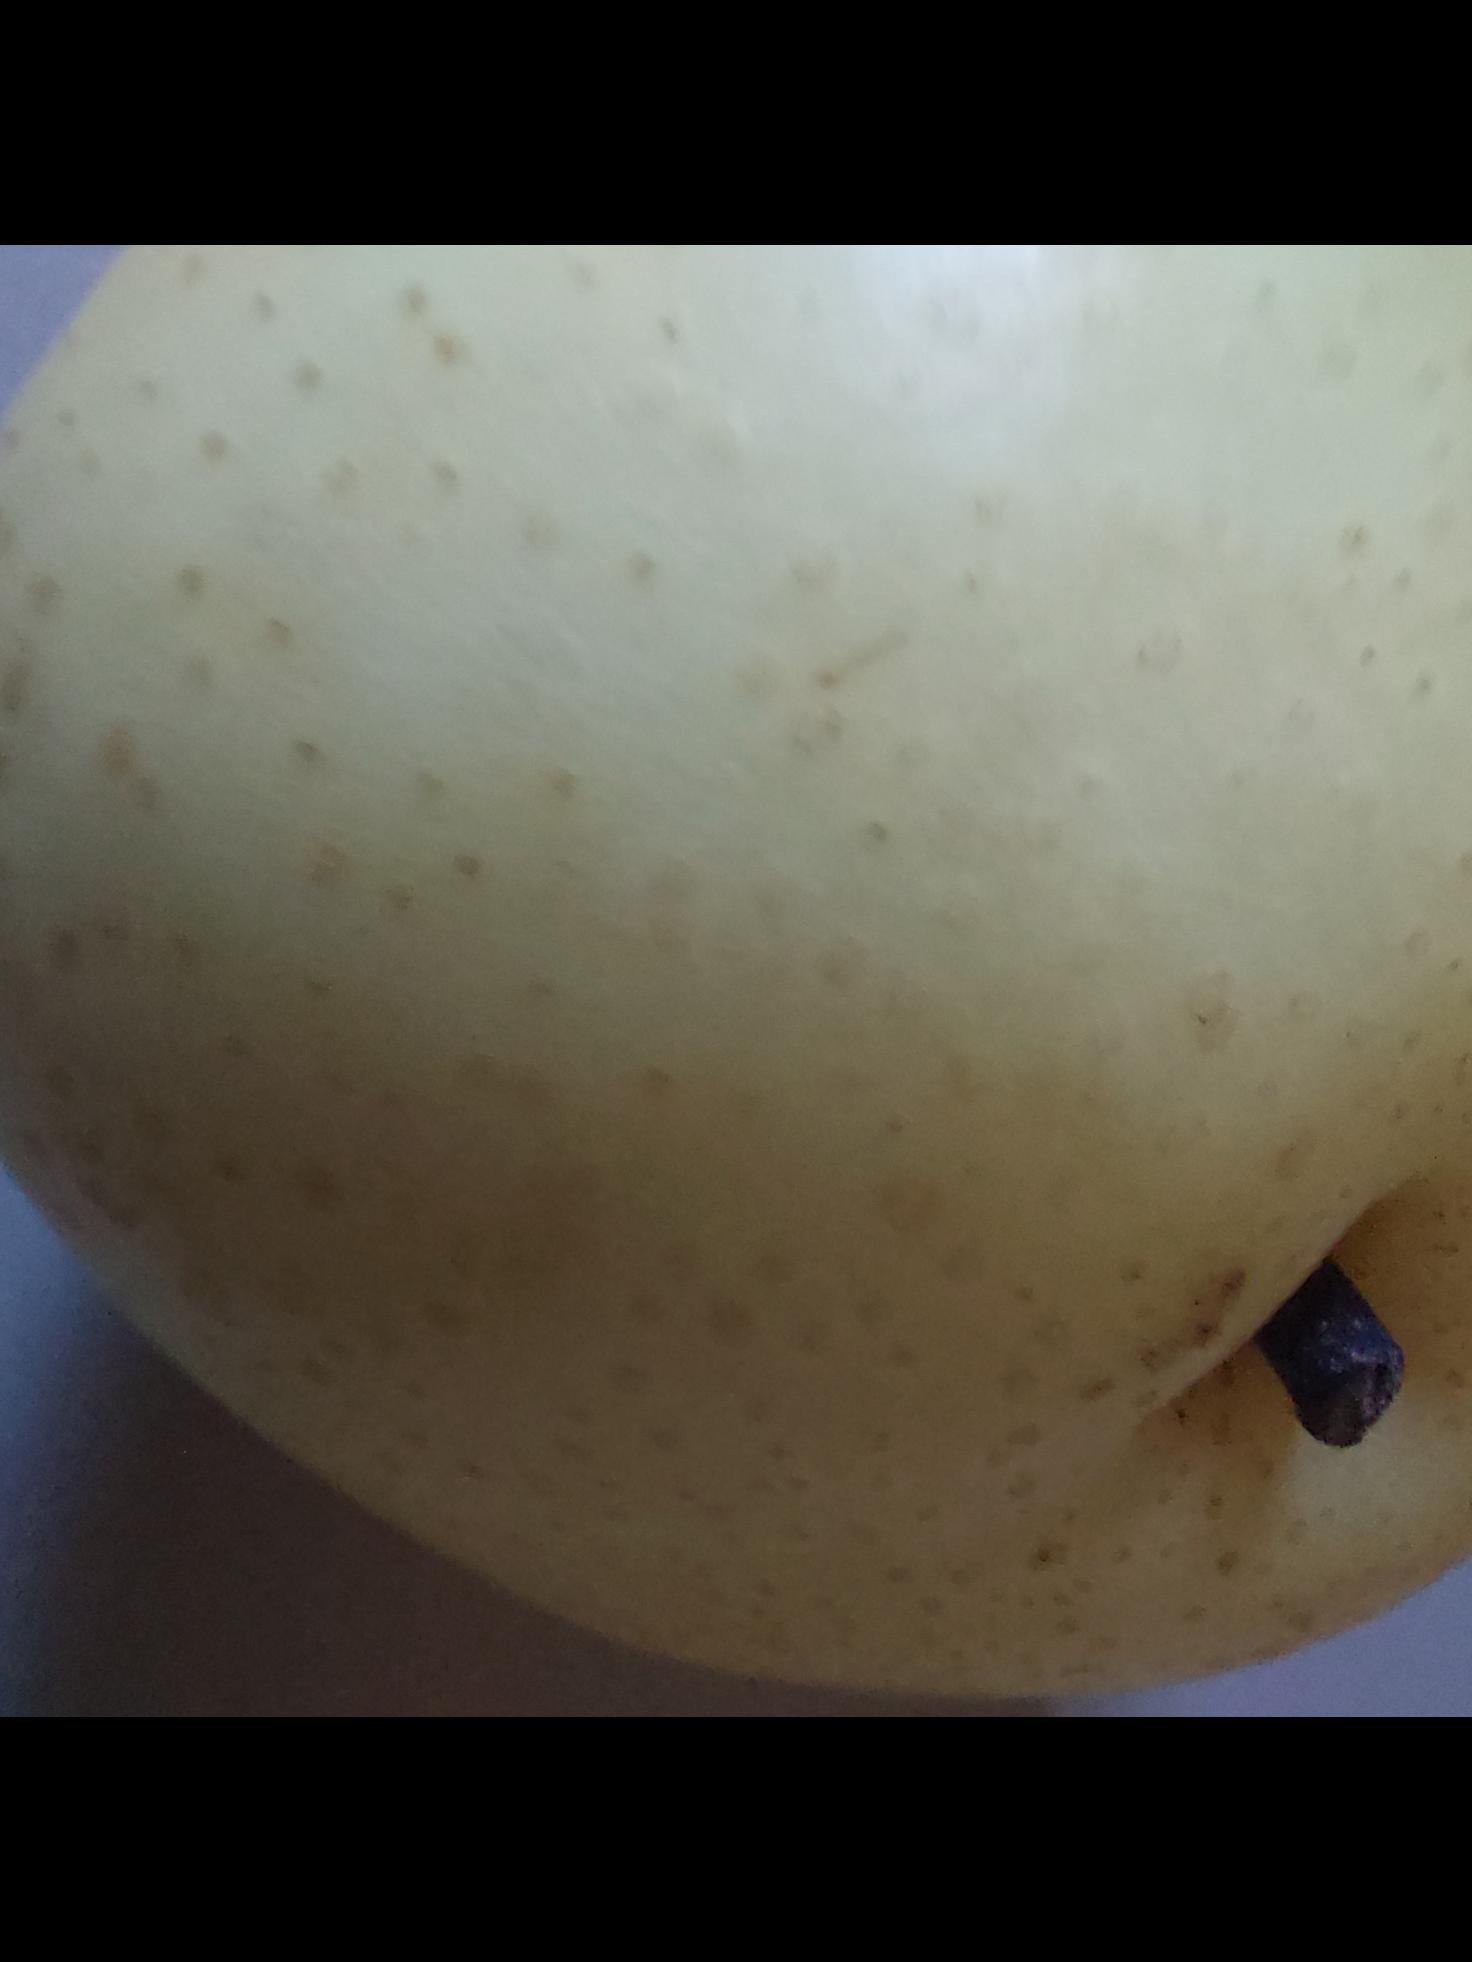Good Pear: (0, 244, 1472, 1698)
